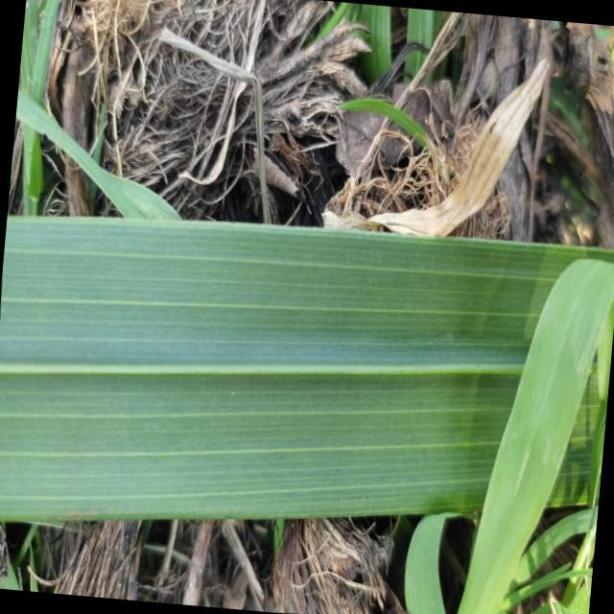Healthy: (0, 214, 614, 520)
